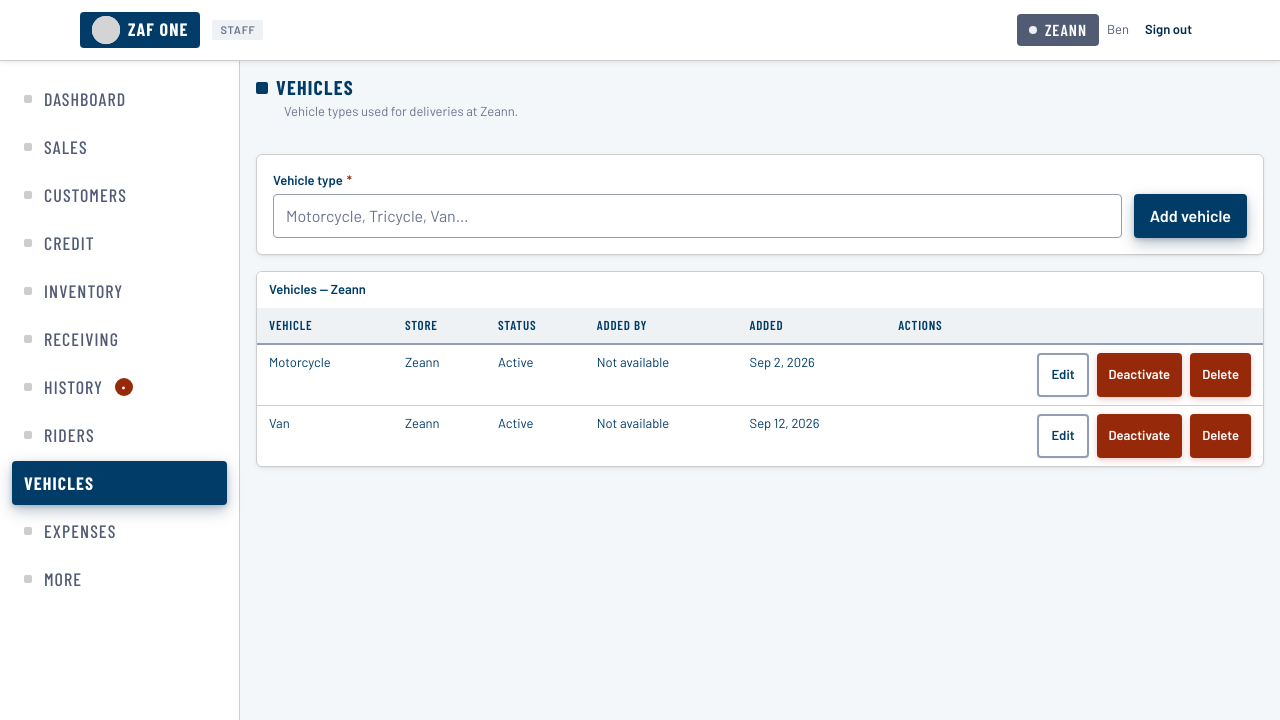
VehiclesPage › renames a vehicle type from its row
Click the button "Edit" in the row of "Van": [1063, 436] box x1=1037 y1=414 x2=1088 y2=458
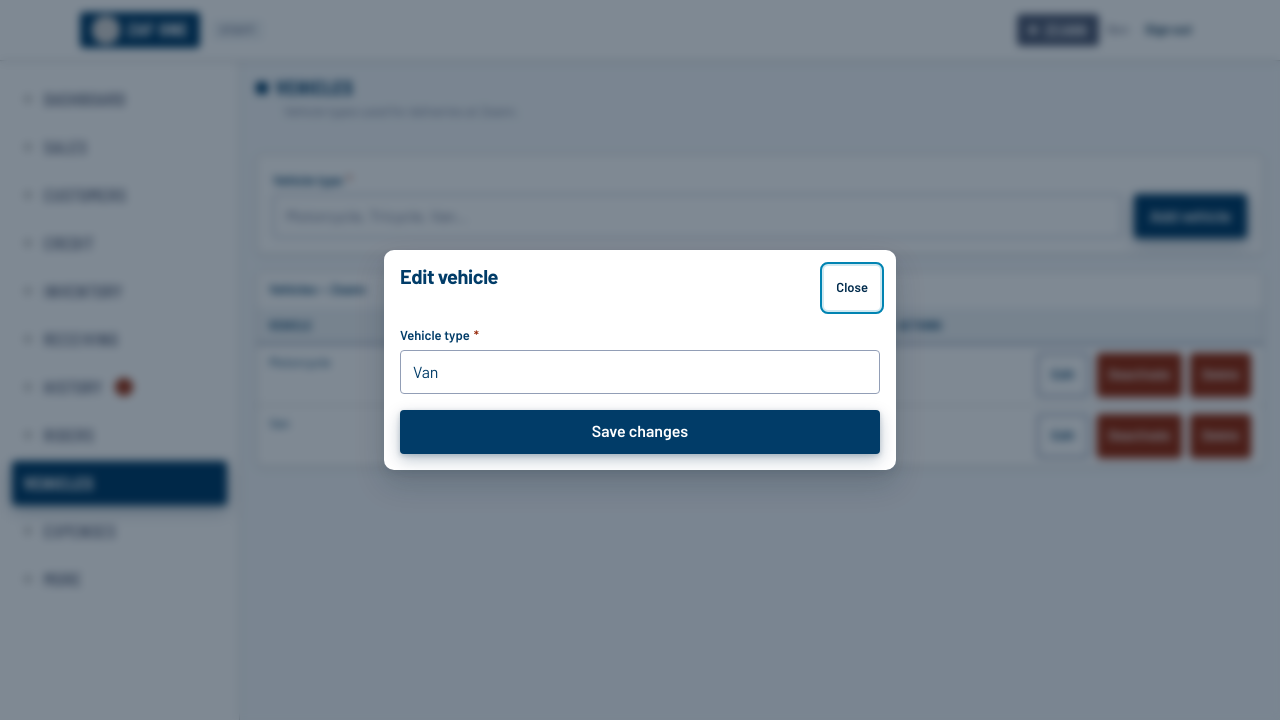
Replace the text in the field labelled "Vehicle type*" with "Delivery Van": [640, 372] box x1=400 y1=350 x2=880 y2=394
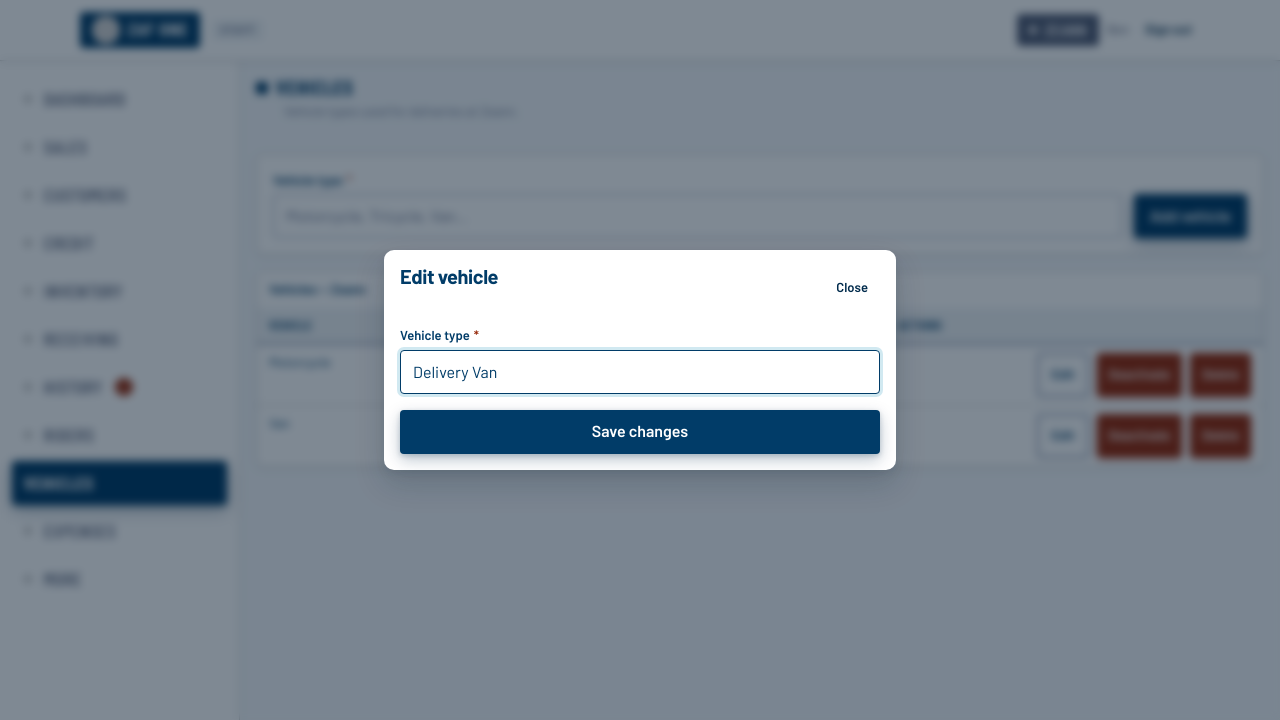
Click the button "Save changes": [640, 432] box x1=400 y1=410 x2=880 y2=454
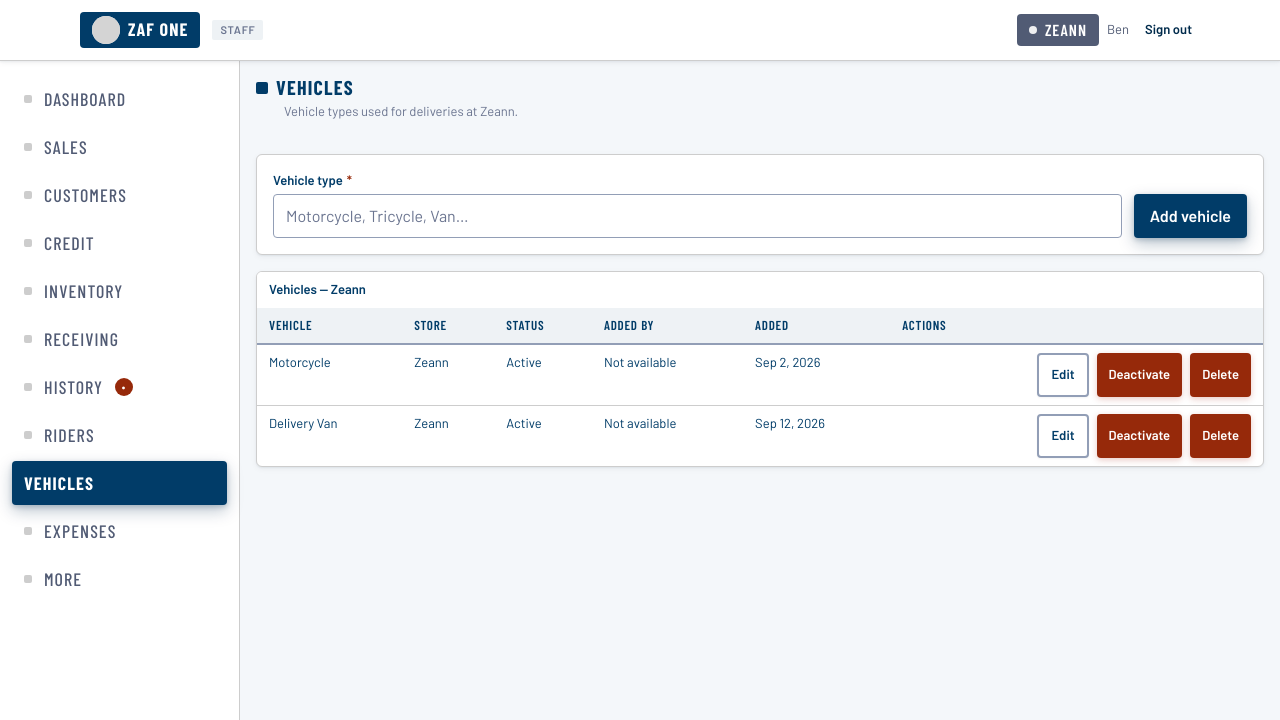
Expected: the text "Delivery Van" is shown, x1=257 y1=406 x2=402 y2=466
